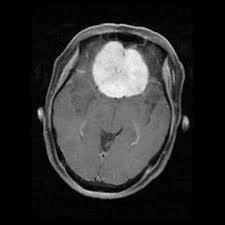Tumour-Meningioma: (80, 40, 164, 111)
